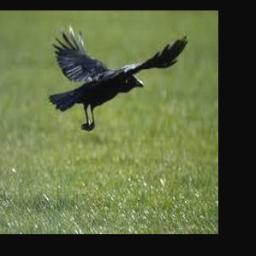Crow: (48, 20, 188, 131)
